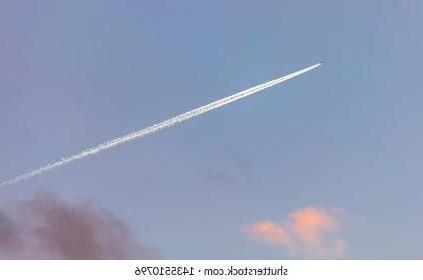Plane: (221, 57, 353, 93)
